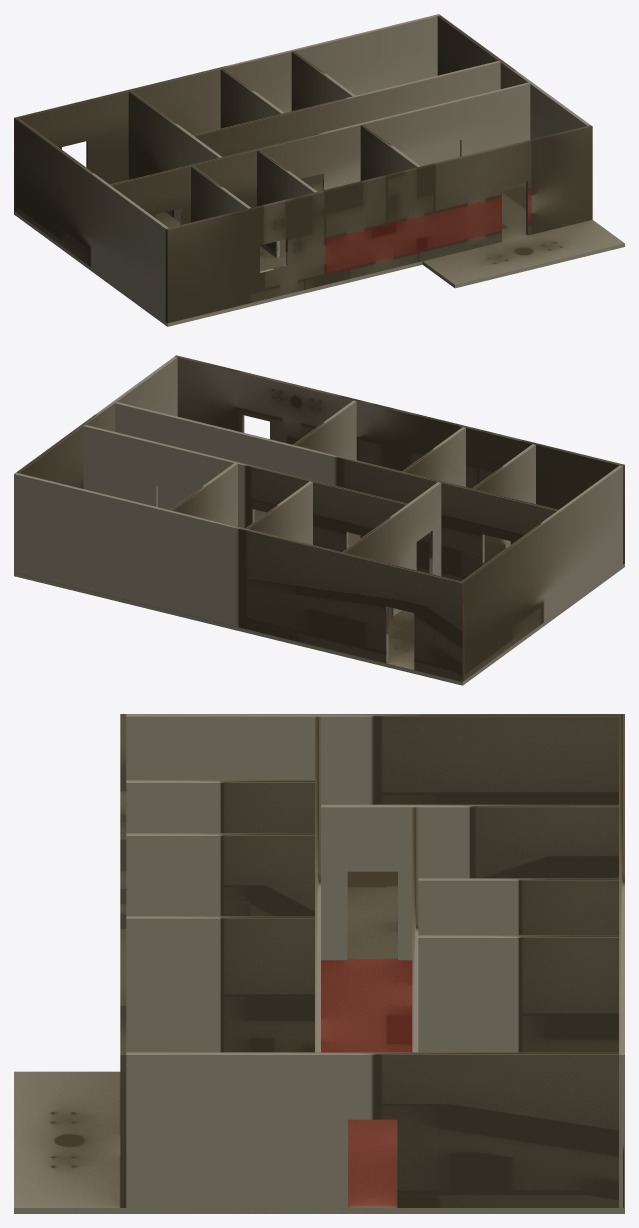
Rendered from Room_Base.fbx.
The picture shows the model from 3 angles, top to bottom: view 1: azimuth 30°, elevation 25°; view 2: azimuth 150°, elevation 25°; view 3: azimuth 270°, elevation 25°; orthographic projection. The views are drawn at different scales.
Visible parts, largest first — view 1: pCube3, pCube2, pCube47, pCube4, pCube1, pCube6, pCube11, pCube5, pCube13, pCube12, pCube9, pCube8 (+1 smaller); view 2: pCube2, pCube3, pCube47, pCube4, pCube6, pCube5, pCube11, pCube1, pCube10, pCube13, pCube12, pCube8 (+1 smaller); view 3: pCube5, pCube4, pCube1, pCube8, pCube11, pCube13, pCube9, pCube12, pCube10, pCube3, pCube2, pCube47 (+1 smaller).
Boxes of the visible parts, x1,y1,x2,y2 form: pCube3: (165, 125, 592, 323); pCube2: (14, 14, 440, 211); pCube47: (110, 82, 530, 225); pCube4: (16, 118, 168, 321); pCube1: (14, 174, 624, 326); pCube6: (193, 61, 500, 188); pCube11: (128, 91, 222, 221); pCube5: (437, 15, 590, 139); pCube13: (291, 51, 355, 110); pCube12: (220, 68, 283, 128); pCube9: (257, 150, 317, 257); pCube8: (360, 124, 420, 180); pCube2: (14, 472, 464, 681); pCube3: (174, 355, 624, 564); pCube47: (115, 402, 558, 580); pCube4: (461, 465, 622, 679); pCube6: (83, 425, 407, 551); pCube5: (16, 356, 177, 488); pCube11: (342, 482, 441, 619); pCube1: (14, 532, 624, 685); pCube10: (472, 444, 535, 563); pCube13: (170, 463, 237, 526); pCube12: (245, 481, 312, 544); pCube8: (293, 400, 356, 460); pCube5: (126, 1052, 618, 1207); pCube4: (126, 714, 618, 804); pCube1: (14, 871, 624, 1213); pCube8: (126, 916, 314, 1052); pCube11: (321, 804, 618, 960); pCube13: (418, 935, 618, 1052); pCube9: (126, 833, 314, 916); pCube12: (418, 878, 618, 935); pCube10: (126, 780, 314, 916); pCube3: (120, 714, 126, 1207); pCube2: (619, 714, 624, 1207); pCube47: (315, 716, 320, 1052).
Size of the model in its own units: 22.66 by 4.93 by 17.17.
